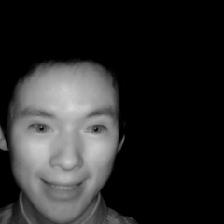happy: (6, 49, 131, 222)
